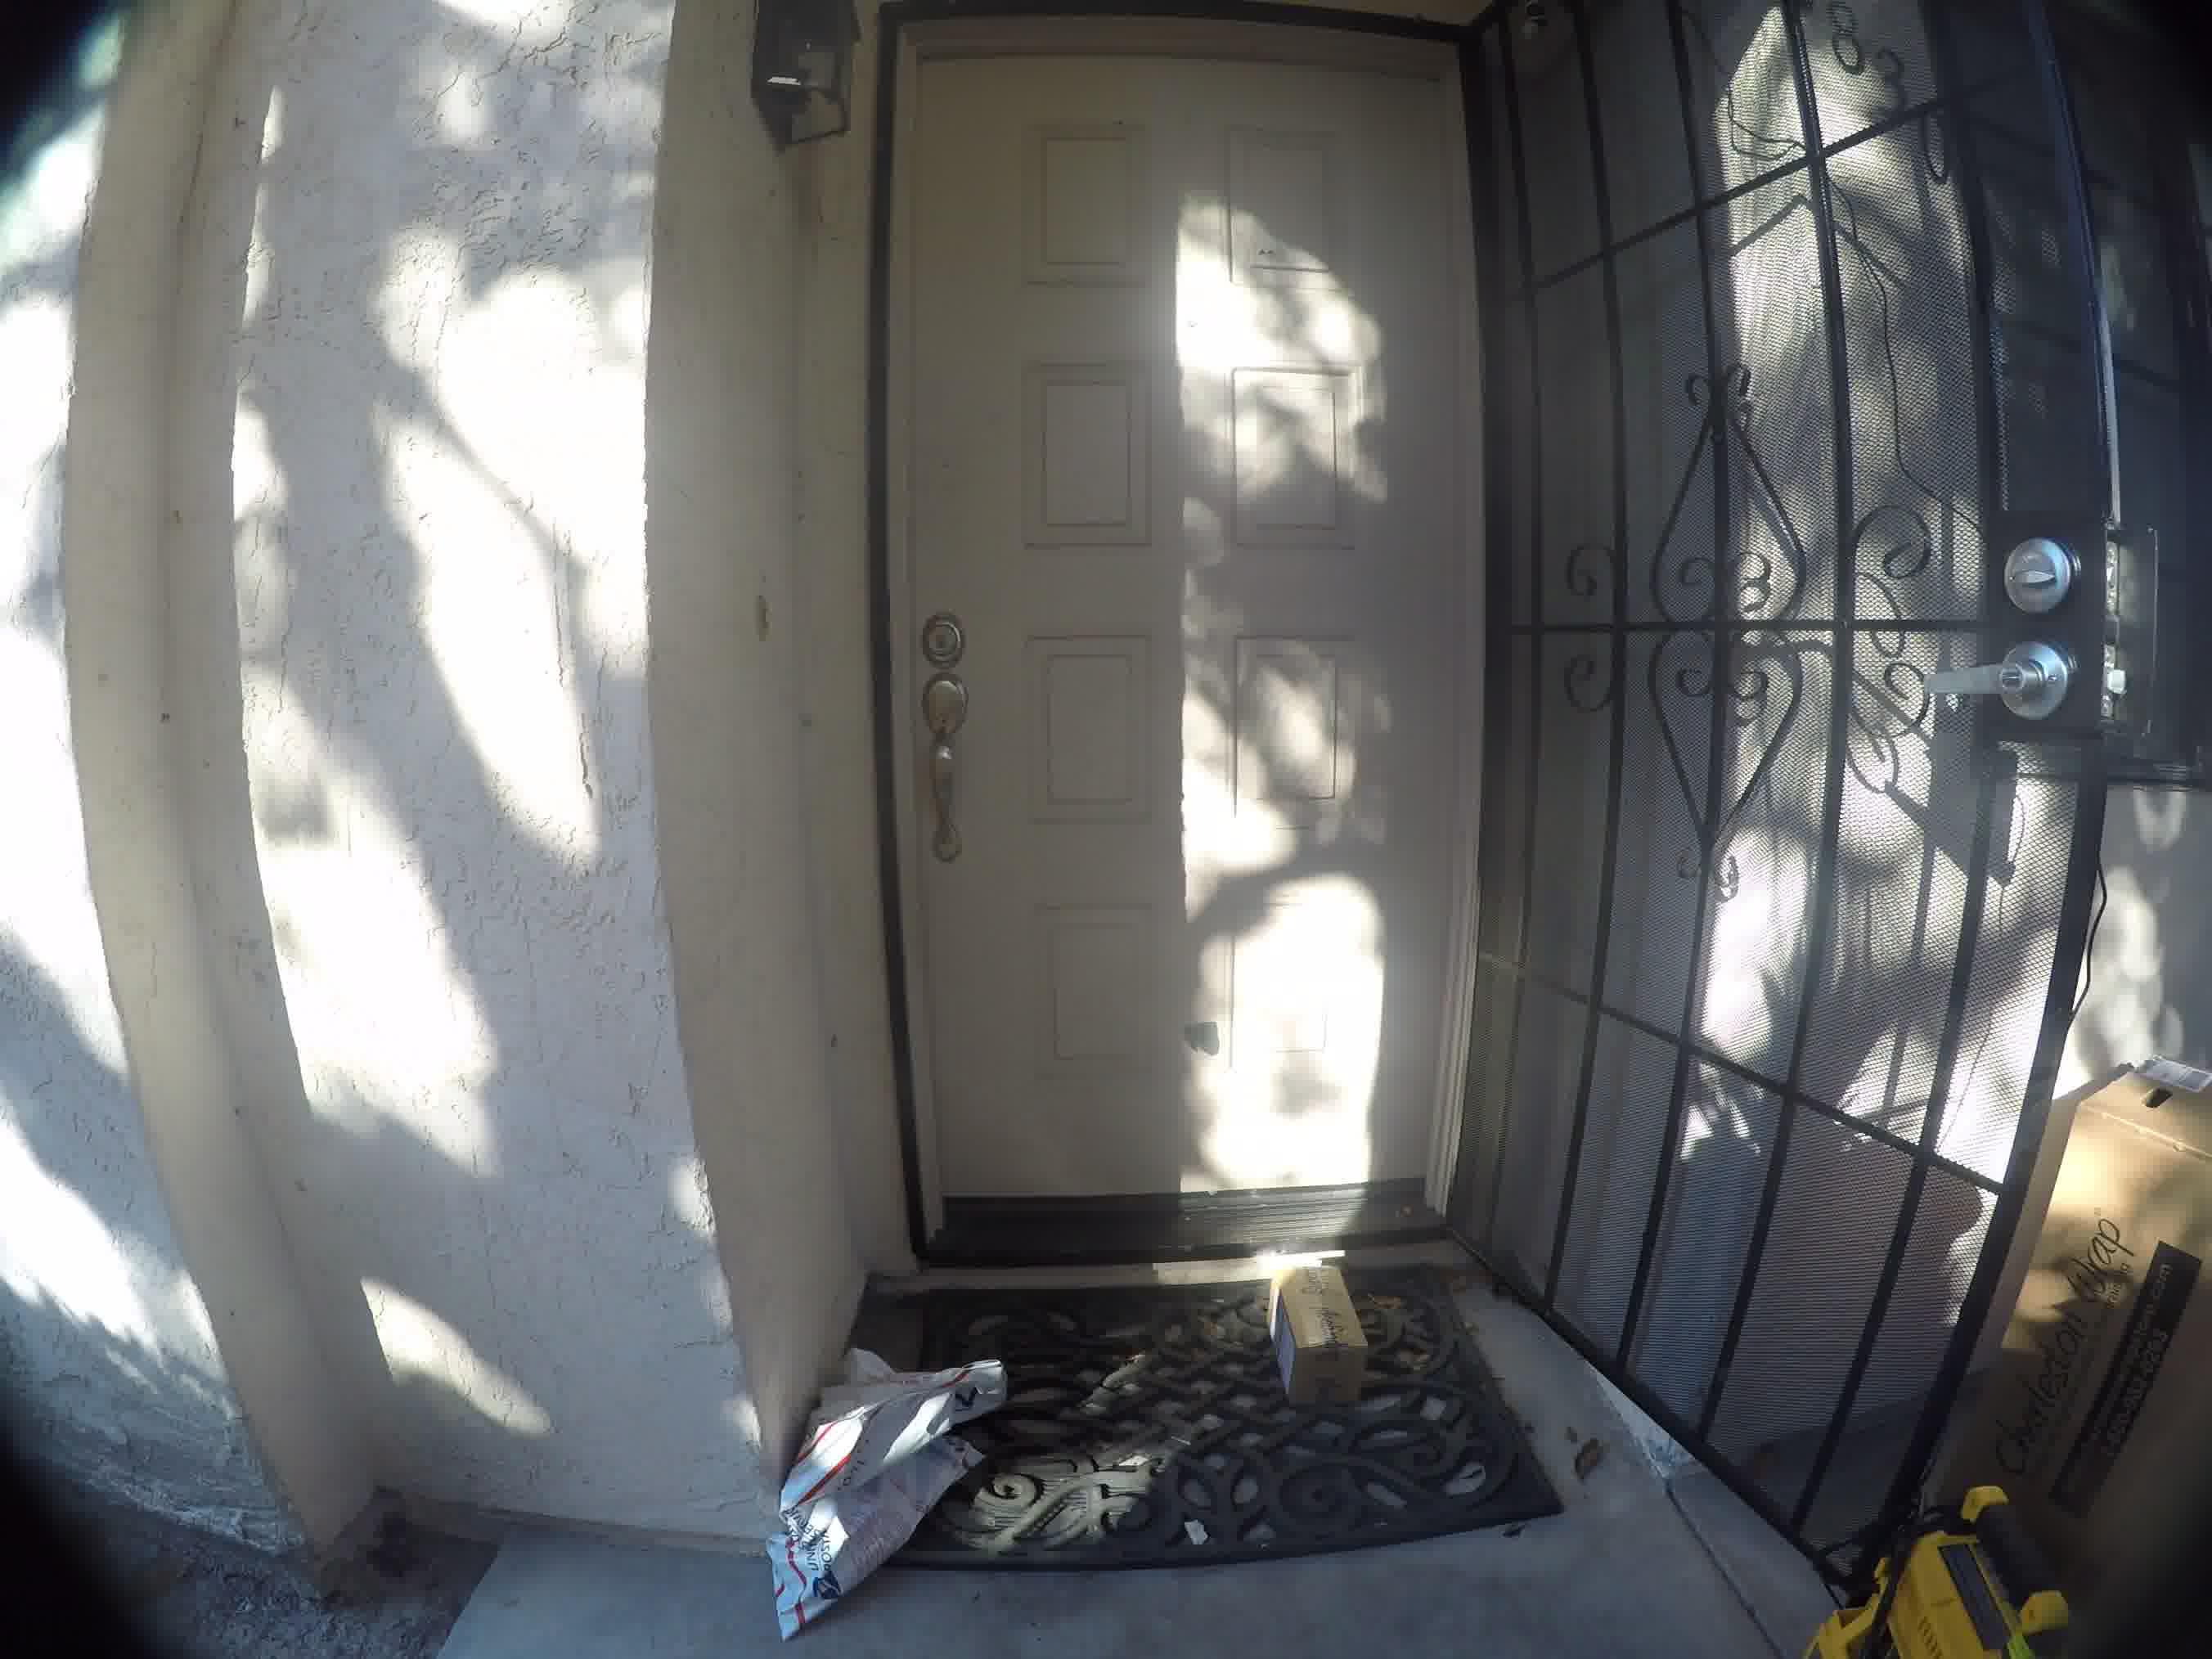box: (1242, 1234, 1385, 1422)
plastic_bag: (801, 1321, 1001, 1617)
